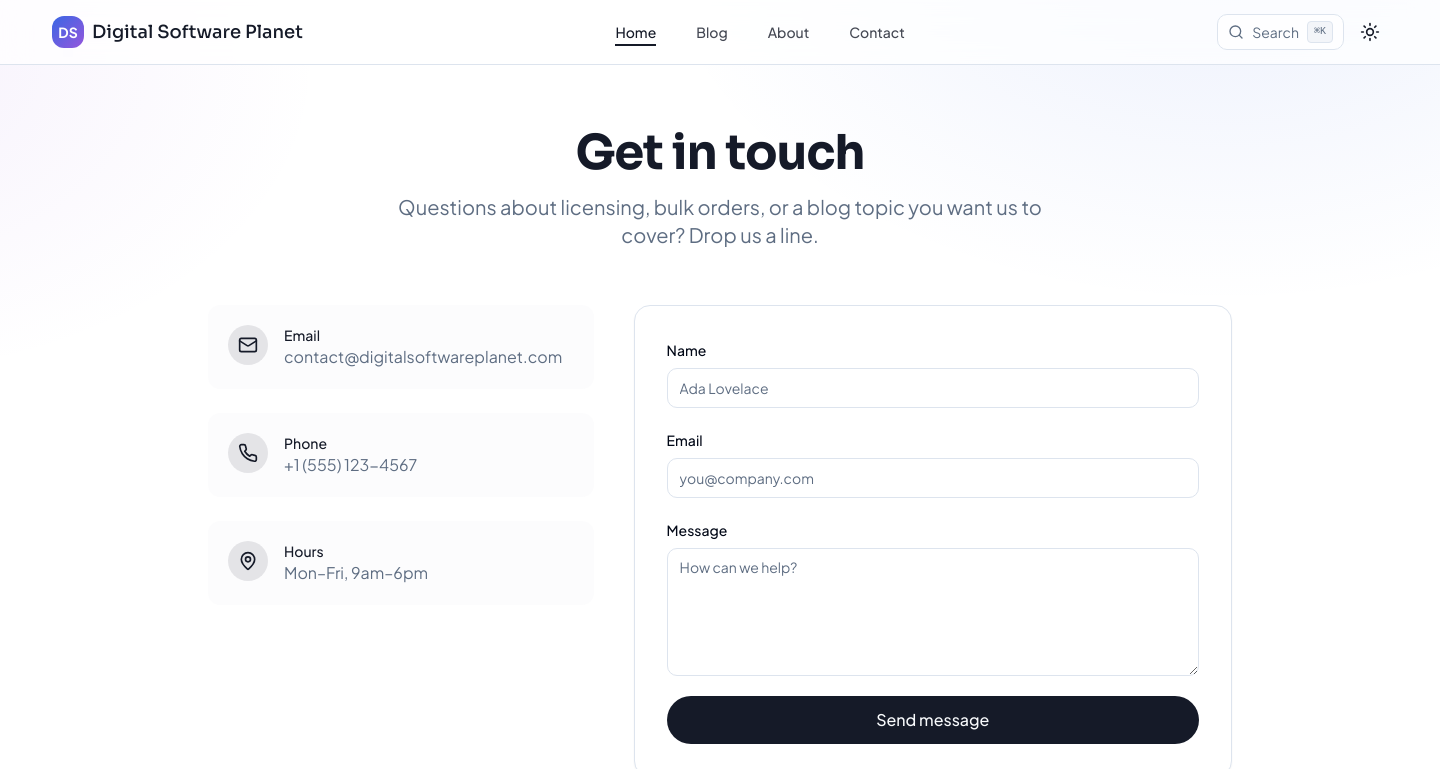
Test case: Contact form › shows validation errors when submitting an empty form
Click the button "Send message" at point(933, 720), box [667,696,1199,744]
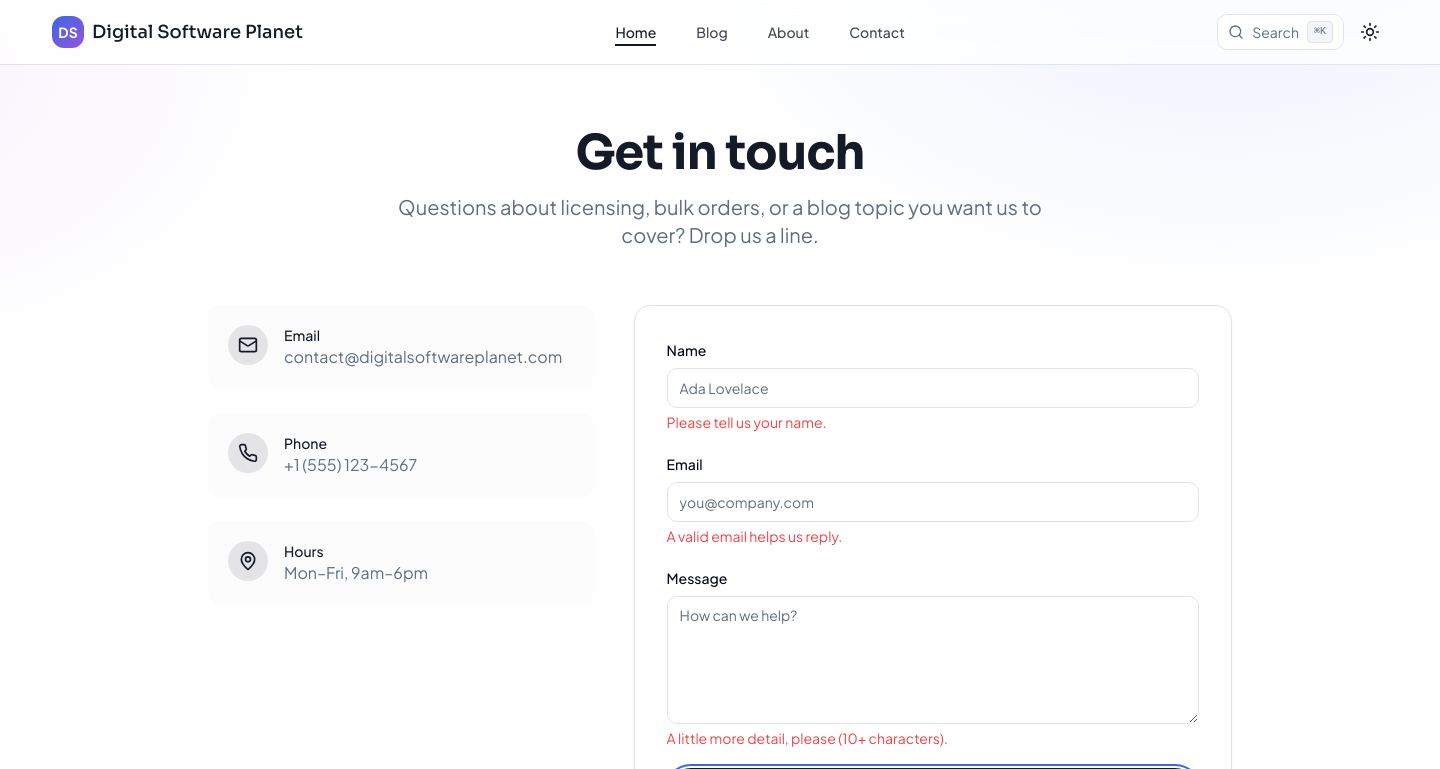
expect the text "Please tell us your name." is shown: met, box [667,413,826,431]
expect the text "A valid email helps us reply." is shown: met, box [667,527,842,545]
expect the text "A little more detail, please (10+ characters)." is shown: met, box [667,729,948,747]
